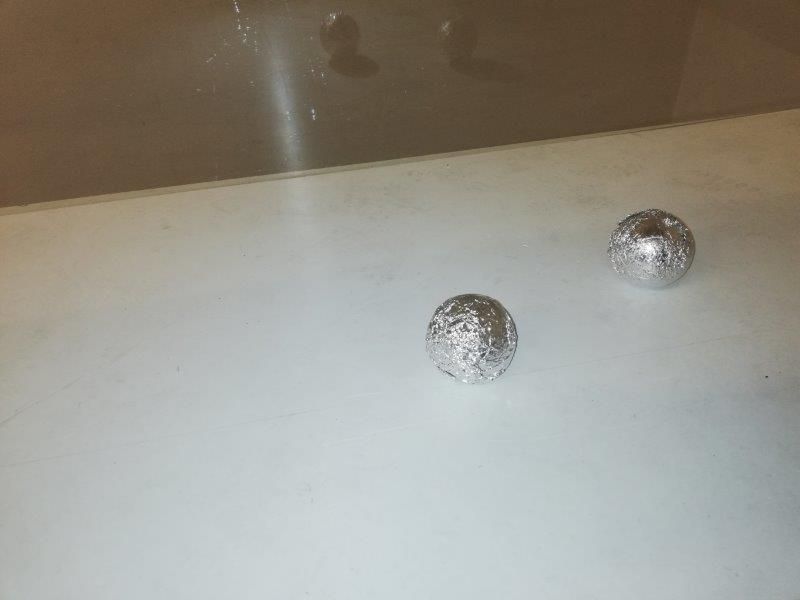bianca: (425, 292, 525, 386), (609, 208, 695, 290)
